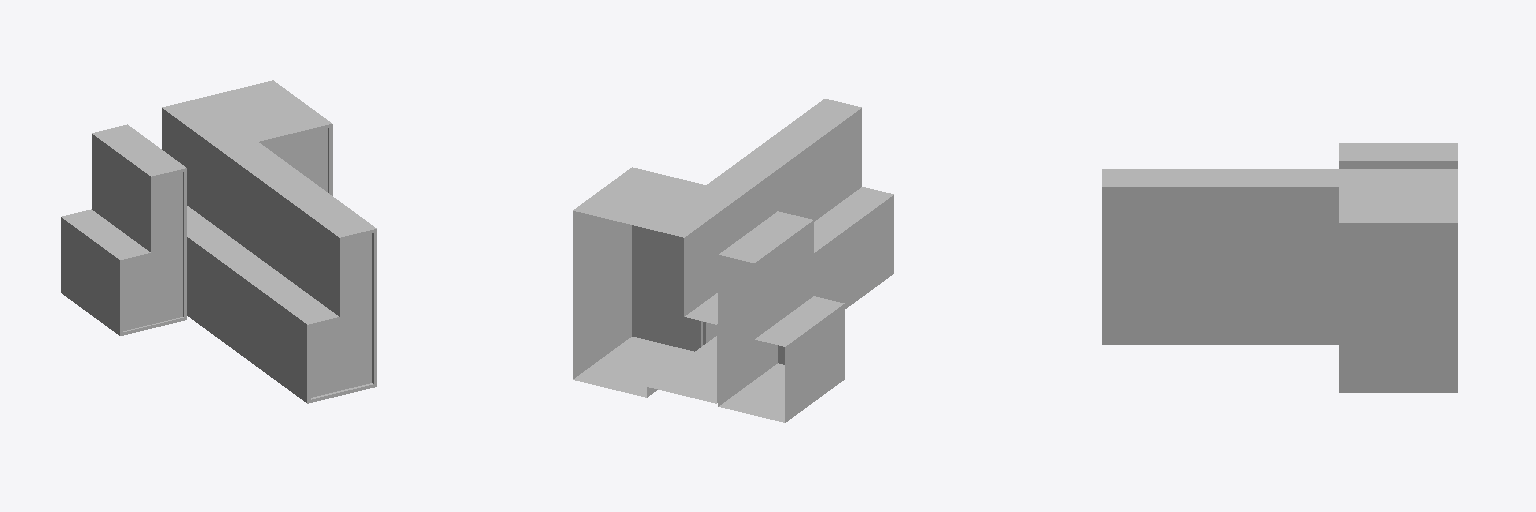
File: tower15.obj
3 views of the same model, side by side, from view 1: azimuth 30°, elevation 25°; view 2: azimuth 150°, elevation 25°; view 3: azimuth 270°, elevation 25° (orthographic).
Visible parts, largest first — view 1: tower15k; view 2: tower15k; view 3: tower15k.
Part boxes in pixels (bbox=[...]): tower15k: bbox=[61, 80, 376, 403]; tower15k: bbox=[573, 99, 893, 422]; tower15k: bbox=[1102, 143, 1457, 392].
Size of the model in its own units: 45.19 by 34.38 by 65.53.